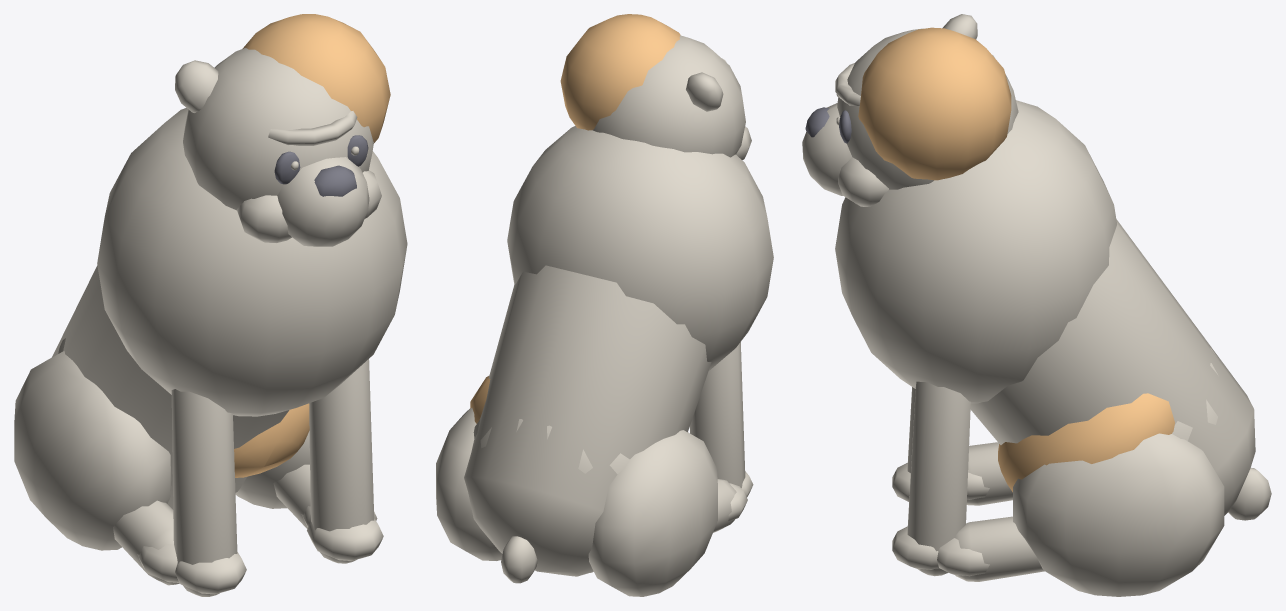
Rendered from companion-animals-and-pet-home-dog-bulldog-sit-290db355__20581.glb.
3 views of the same model, side by side, from view 1: azimuth 30°, elevation 25°; view 2: azimuth 150°, elevation 25°; view 3: azimuth 270°, elevation 25° (orthographic). The views are drawn at different scales.
Visible parts, largest first — view 1: dog-bulldog-sit; view 2: dog-bulldog-sit; view 3: dog-bulldog-sit.
Boxes of the visible parts, x1,y1,x2,y2 form: dog-bulldog-sit: (14, 14, 407, 596); dog-bulldog-sit: (436, 14, 773, 596); dog-bulldog-sit: (802, 14, 1271, 596).
Bounding box in the file's own units: 0.3949 × 0.7346 × 0.5847.
